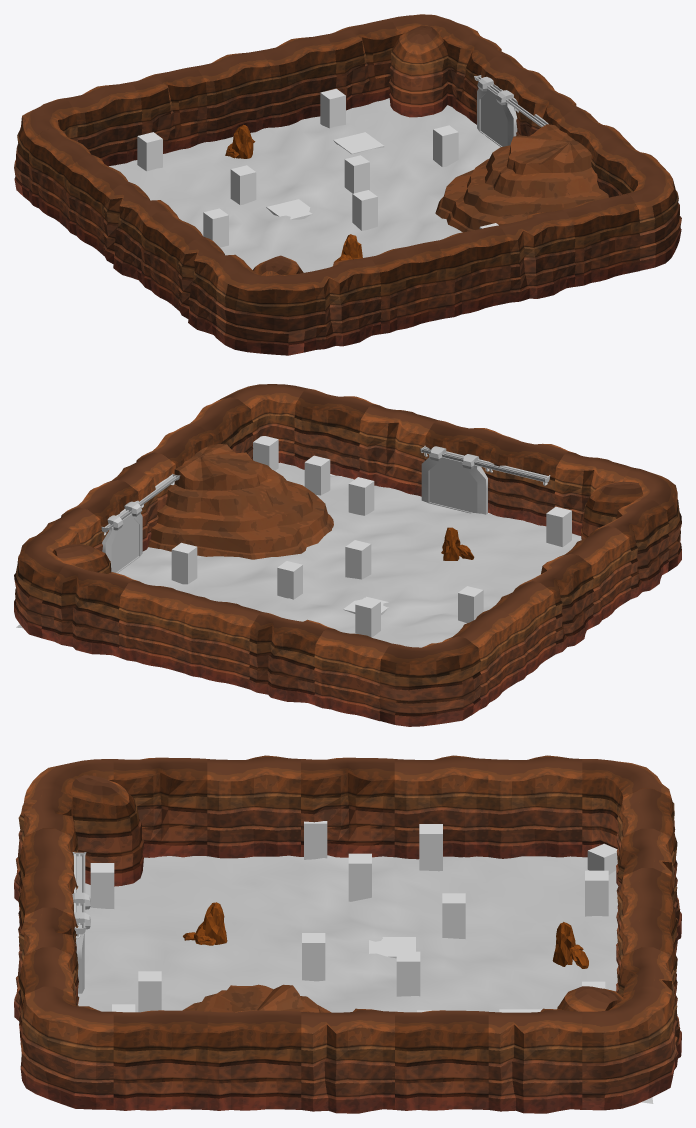
File: level1V2_b10_25_final.fbx
3 renders of one model, top to bottom at view 1: azimuth 30°, elevation 25°; view 2: azimuth 150°, elevation 25°; view 3: azimuth 270°, elevation 25°, orthographic. The views are drawn at different scales.
Parts seen in each view (by area): view 1: level1_wall011, Plane074, Pyramid001, level1_door, Box096, GeoSphere004, Box137, Box097, Box098, Box093, Box139, Box138 (+2 smaller); view 2: level1_wall011, Plane074, Pyramid001, level1_door001, level1_door, Box096, Box097, Box135, Box092, Box141, Box137, Box139 (+4 smaller); view 3: level1_wall011, Plane074, Pyramid001, GeoSphere004, Box097, Box135, Box139, Box138, Box094, Box093, Box137, Box141 (+6 smaller).
Part boxes in pixels (bbox=[...]): level1_wall011: bbox=[14, 14, 681, 355]; Plane074: bbox=[109, 98, 500, 272]; Pyramid001: bbox=[435, 124, 608, 232]; level1_door: bbox=[477, 76, 517, 146]; Box096: bbox=[433, 125, 458, 167]; GeoSphere004: bbox=[232, 124, 362, 258]; Box137: bbox=[230, 165, 256, 205]; Box097: bbox=[352, 190, 377, 230]; Box098: bbox=[320, 88, 345, 128]; Box093: bbox=[137, 132, 162, 171]; Box139: bbox=[344, 155, 369, 193]; Box138: bbox=[203, 208, 228, 247]; level1_wall011: bbox=[14, 384, 681, 726]; Plane074: bbox=[16, 462, 581, 647]; Pyramid001: bbox=[148, 444, 333, 559]; level1_door001: bbox=[421, 446, 487, 514]; level1_door: bbox=[102, 501, 142, 573]; Box096: bbox=[171, 542, 197, 584]; Box097: bbox=[345, 540, 371, 579]; Box135: bbox=[546, 506, 571, 547]; Box092: bbox=[304, 455, 330, 495]; Box141: bbox=[348, 477, 374, 515]; Box137: bbox=[355, 597, 380, 637]; Box139: bbox=[277, 561, 302, 599]; level1_wall011: bbox=[14, 755, 681, 1113]; Plane074: bbox=[78, 855, 653, 1103]; Pyramid001: bbox=[182, 984, 331, 1012]; GeoSphere004: bbox=[203, 902, 575, 966]; Box097: bbox=[302, 933, 325, 981]; Box135: bbox=[90, 863, 114, 908]; Box139: bbox=[396, 951, 420, 996]; Box138: bbox=[348, 853, 371, 901]; Box094: bbox=[419, 824, 442, 871]; Box093: bbox=[585, 870, 608, 916]; Box137: bbox=[442, 893, 465, 938]; Box141: bbox=[138, 971, 161, 1012].
Bounding box in the file's own units: 1121 × 236 × 1122.
